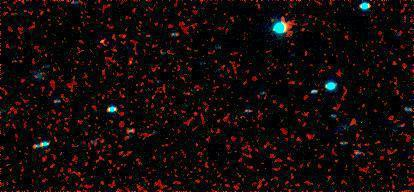star: (87, 27, 117, 57)
